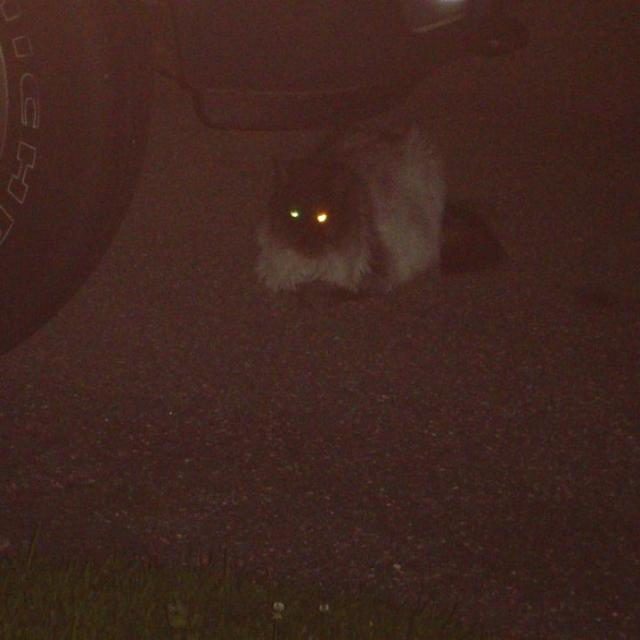Cat: (249, 117, 494, 328)
car: (5, 0, 532, 378)
